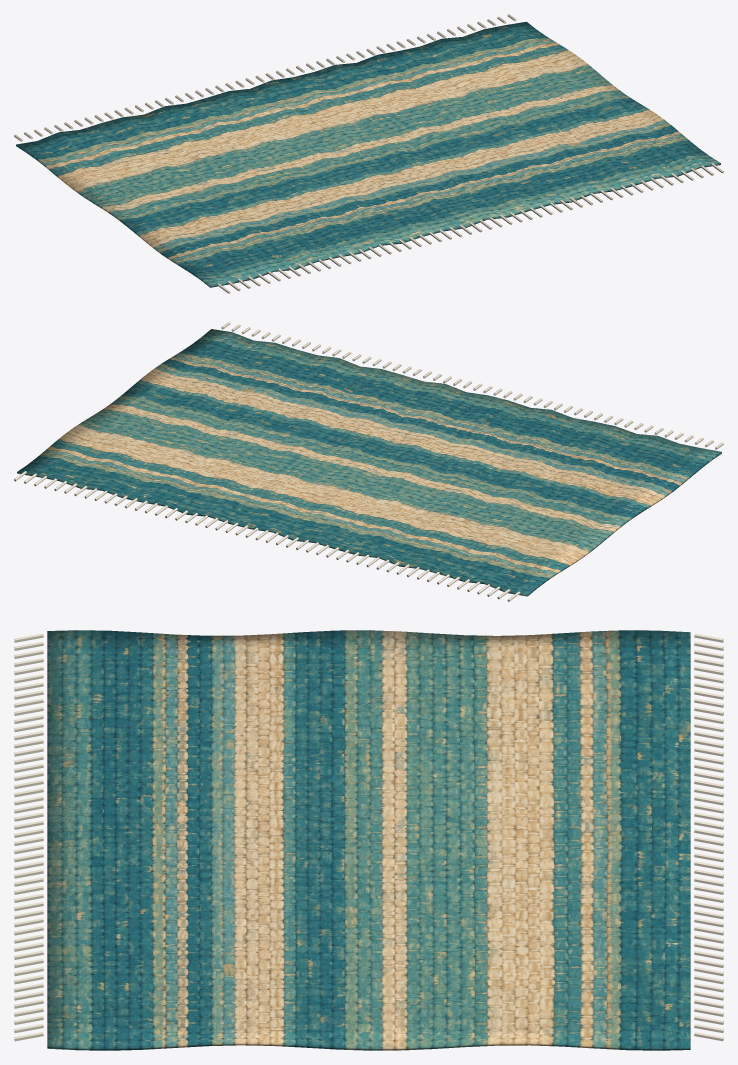
3 renders of one model, top to bottom at view 1: azimuth 30°, elevation 25°; view 2: azimuth 150°, elevation 25°; view 3: azimuth 270°, elevation 25°, orthographic. The views are drawn at different scales.
Visible parts, largest first — view 1: loft_rug.001, loft_linen; view 2: loft_rug.001, loft_linen; view 3: loft_rug.001, loft_linen.
Boxes of the visible parts, x1,y1,x2,y2 form: loft_rug.001: (16, 21, 720, 287); loft_linen: (14, 14, 723, 293); loft_rug.001: (17, 329, 721, 596); loft_linen: (14, 322, 723, 601); loft_rug.001: (47, 630, 690, 1050); loft_linen: (14, 633, 723, 1041).
Bounding box in the file's own units: 3.7 × 0.0459 × 2.69.
2 materials, 1 textured.
